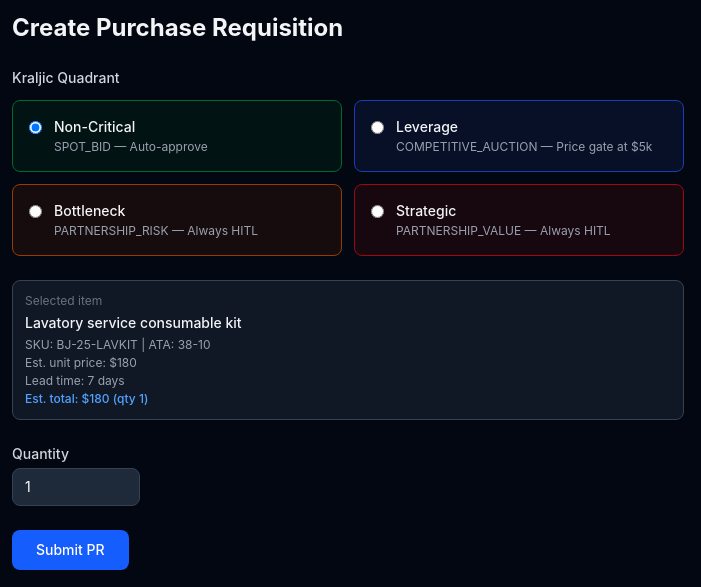
Test case: PRForm › reloads the preview when a different quadrant is selected
The width and height of the screenshot is (701, 587).
Expected: the text "Lavatory service consumable kit" is shown, [25,314,242,331]
Click the text "Leverage" at [427, 126], box [396,118,458,135]
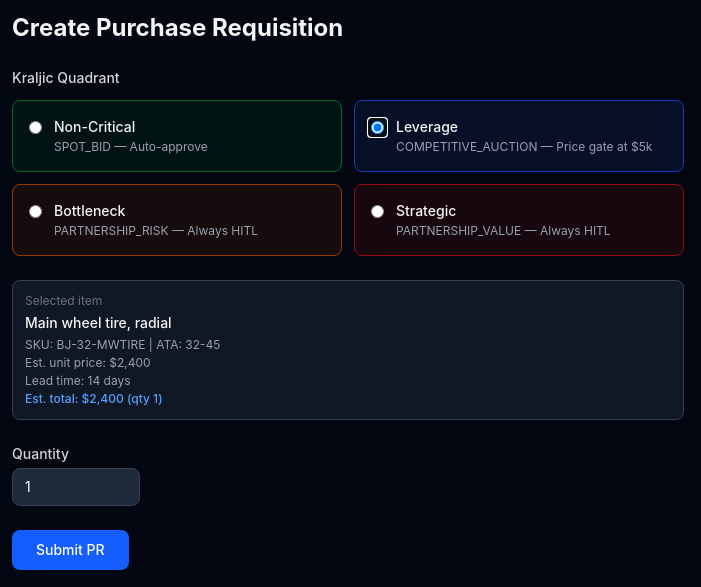
Result: the text "Main wheel tire, radial" is shown at [25,314,172,331]
